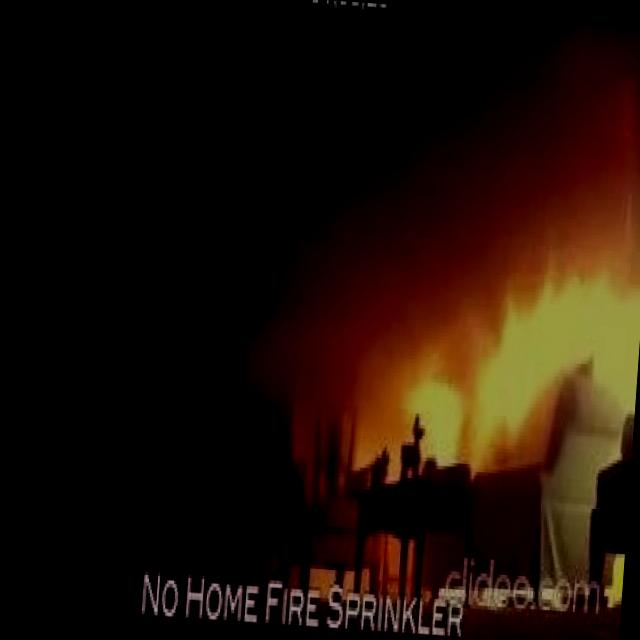fire: (387, 232, 640, 496)
